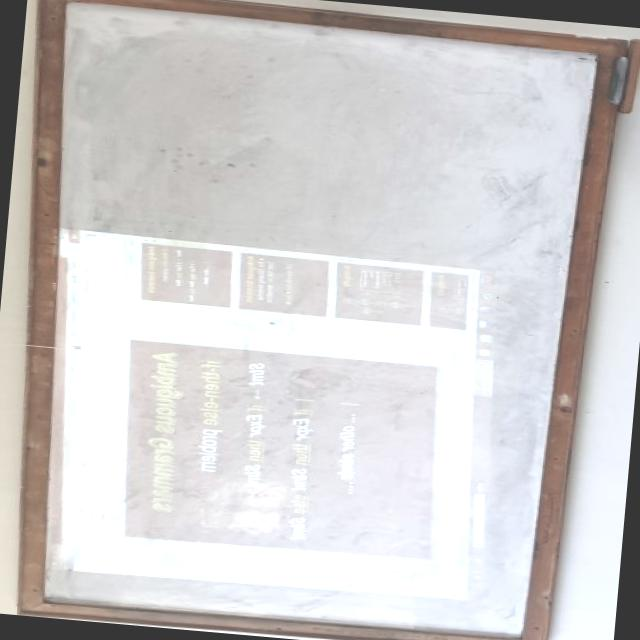Slide: (33, 224, 505, 605)
White-board: (26, 0, 620, 640)
